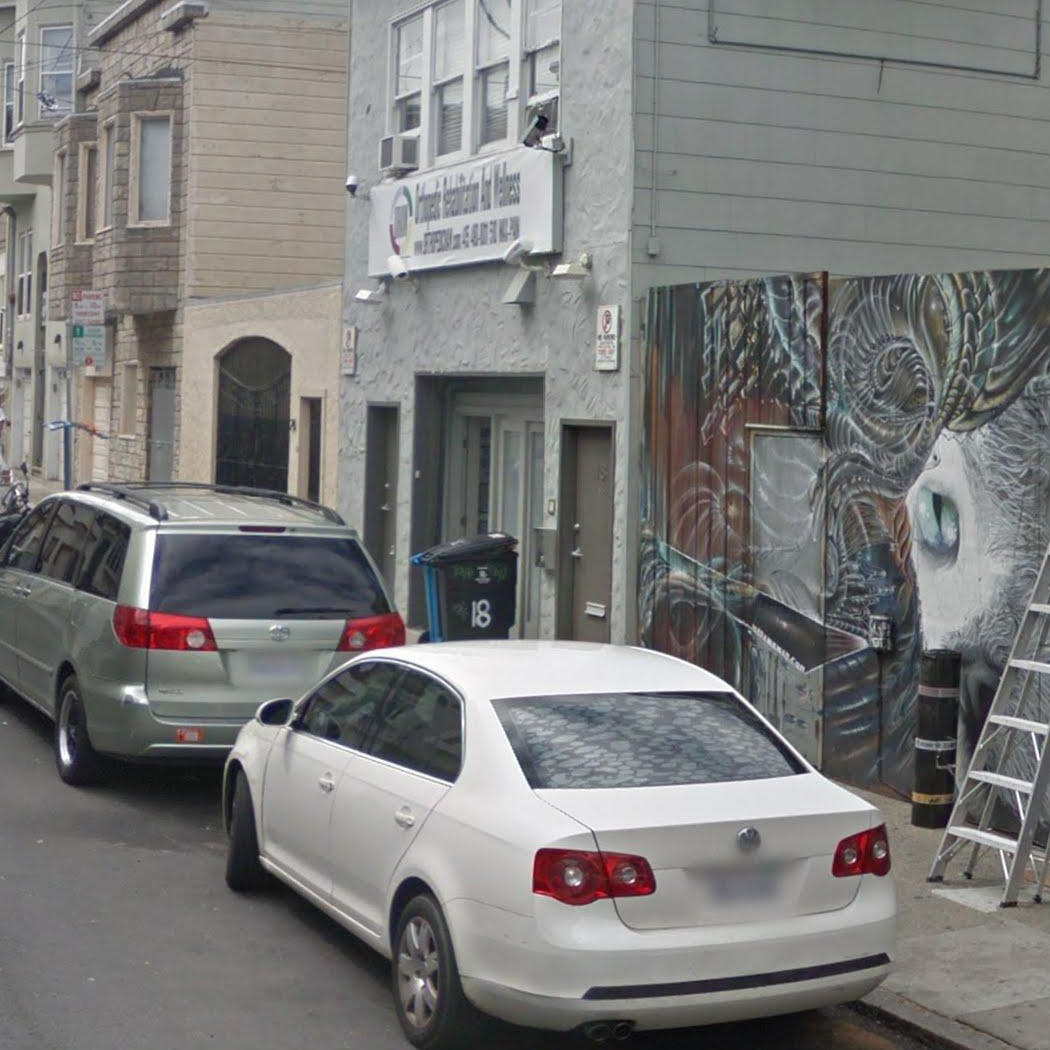1 Hour Parking: (72, 325, 107, 366)
No Parking: (71, 289, 106, 325)
